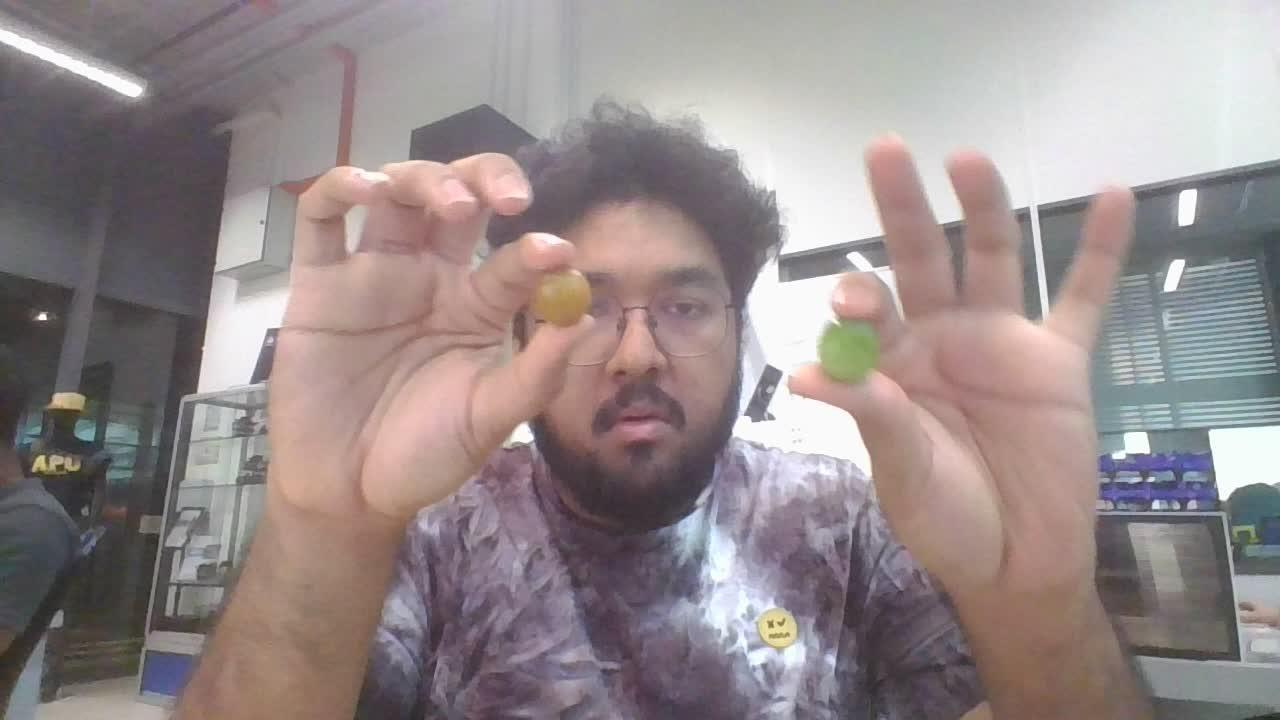green_cherry_tomato: (818, 320, 879, 383)
yellow_cherry_tomato: (530, 269, 590, 326)
